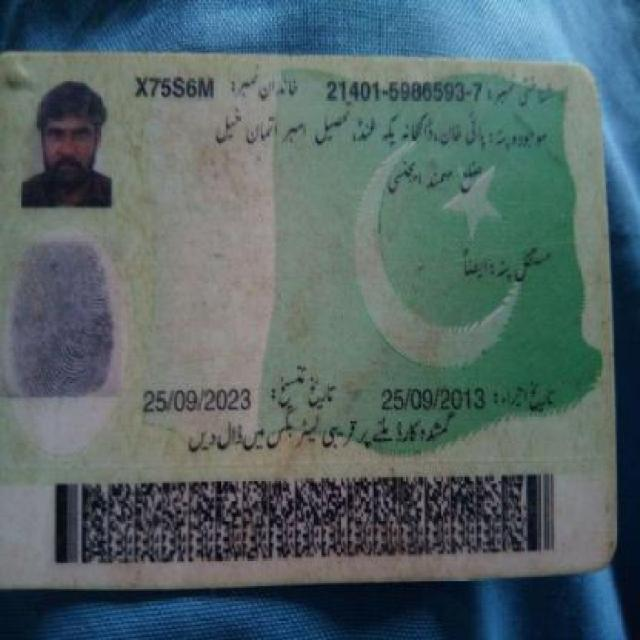Back: (4, 48, 602, 584)
